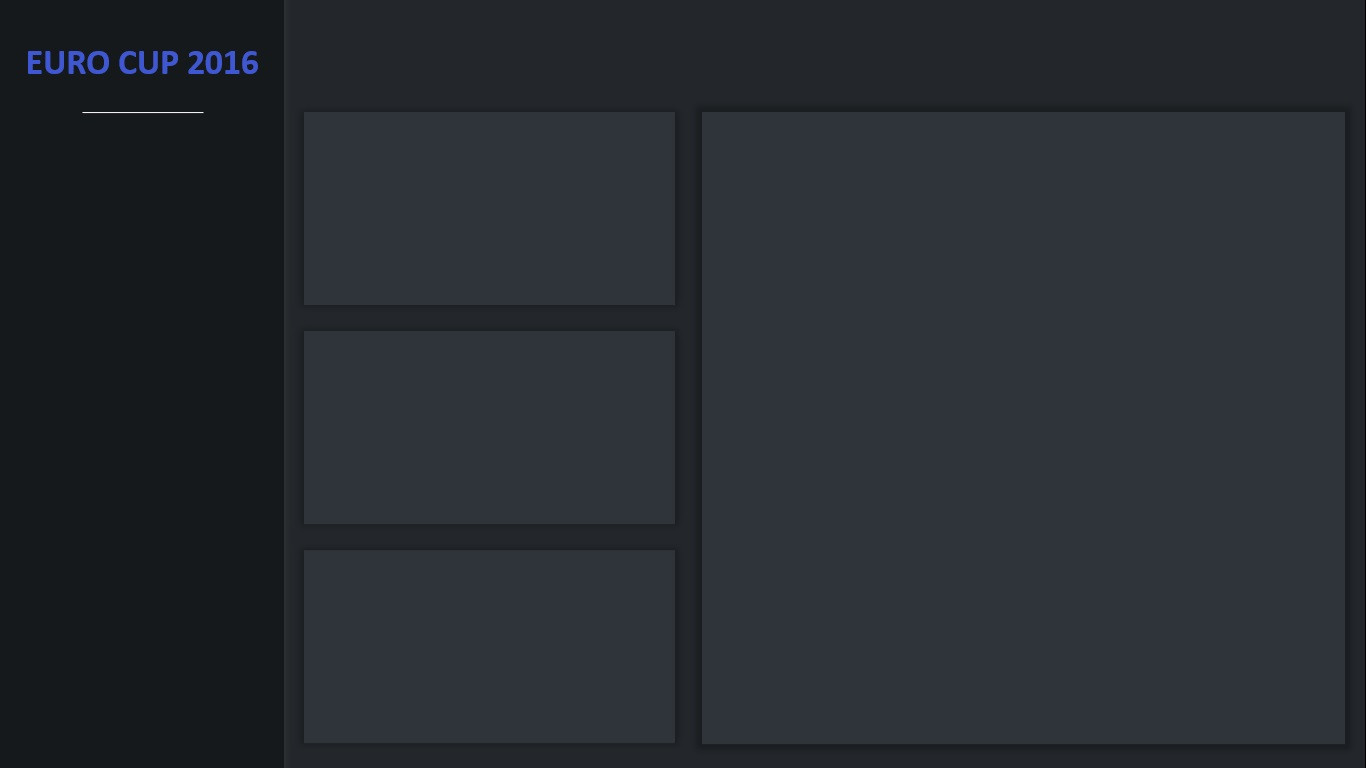

This screenshot's page, from the dashboard's own definition file:
{"tool":"powerbi","page":{"name":"venues","canvas":[1280,720],"ordinal":1},"visuals":[{"type":"slicer","fields":{"Values":["vw_general_venue.venue_name"]},"box":[0,113.9,265,606.1],"z":0},{"type":"card","fields":{"Values":["Sum(vw_general_venue.games_played)"]},"box":[295,111.7,330,165],"z":1000},{"type":"gauge","title":"Avarage Audience","fields":{"MaxValue":["Sum(vw_general_venue.aud_capacity)"],"Y":["Sum(vw_general_venue.avarage_audence)"]},"box":[295,525,330,165],"z":2000},{"type":"card","fields":{"Values":["Min(vw_general_venue.city)"]},"box":[295,318.3,330,165],"z":3000},{"type":"map","fields":{"Category":["vw_general_venue.venue_name"]},"box":[666.7,111.7,585,578.3],"z":4000},{"type":"shape","box":[295.6,25,145,56.7],"z":5000},{"type":"shape","box":[473.3,25,145,56.7],"z":6000},{"type":"shape","box":[660,25,145,56.7],"z":7000}]}

Visuals, with their boxes in screenshot pixels (x1, y1, x2, y2), scaled from the page's 1280x720 canvas onto the 1366x768 screenshot:
slicer - vw_general_venue.venue_name: locate(0, 121, 283, 767)
card - Sum(vw_general_venue.games_played): locate(315, 119, 667, 295)
"Avarage Audience" gauge: locate(315, 560, 667, 736)
card - Min(vw_general_venue.city): locate(315, 340, 667, 516)
map - vw_general_venue.venue_name: locate(711, 119, 1336, 736)
shape: locate(315, 27, 470, 87)
shape: locate(505, 27, 660, 87)
shape: locate(704, 27, 859, 87)
